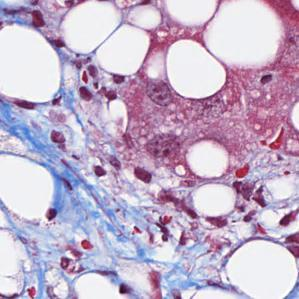inflammation: (68, 54, 129, 104), (152, 185, 202, 222), (233, 176, 268, 210)
